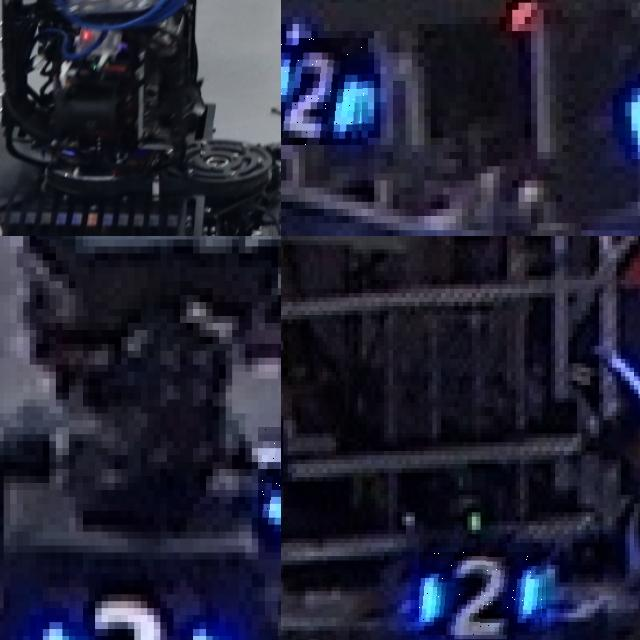B2: (419, 552, 547, 635), (281, 38, 367, 144), (619, 52, 640, 166)
B3: (36, 594, 212, 640), (258, 427, 281, 531)
